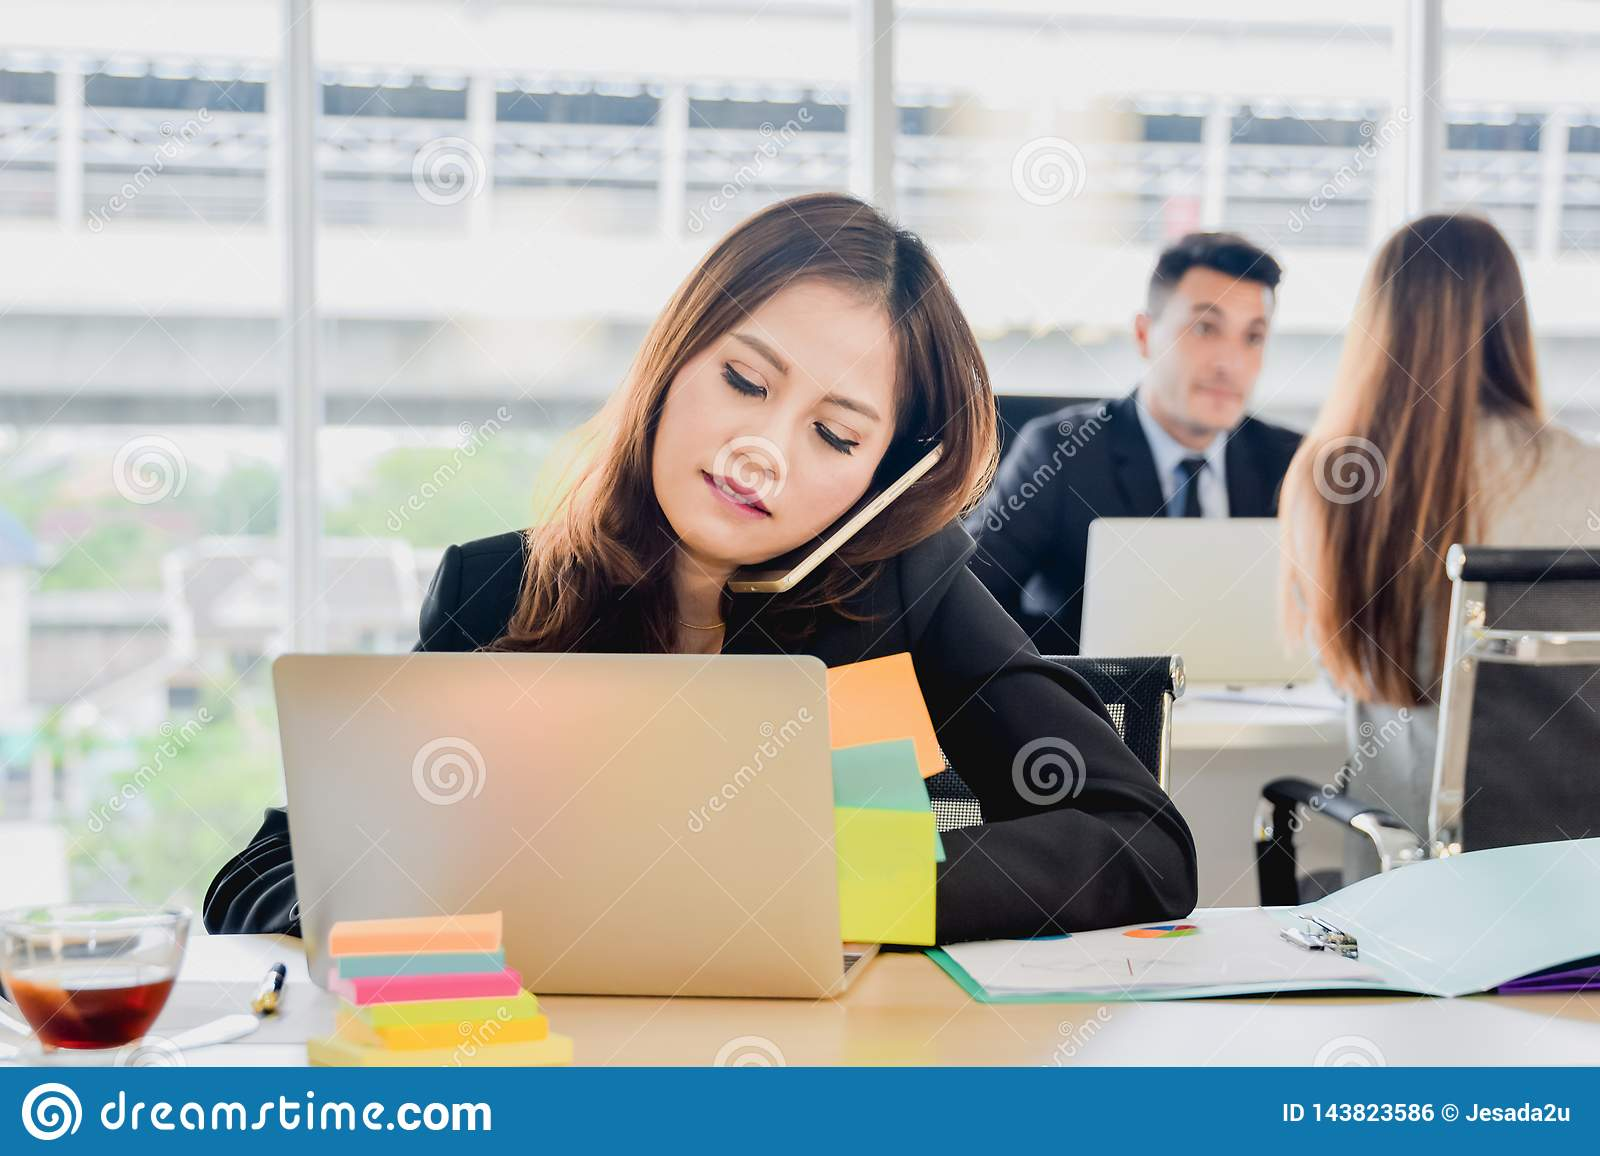phone: (720, 442, 947, 592)
talk: (651, 332, 949, 594)
